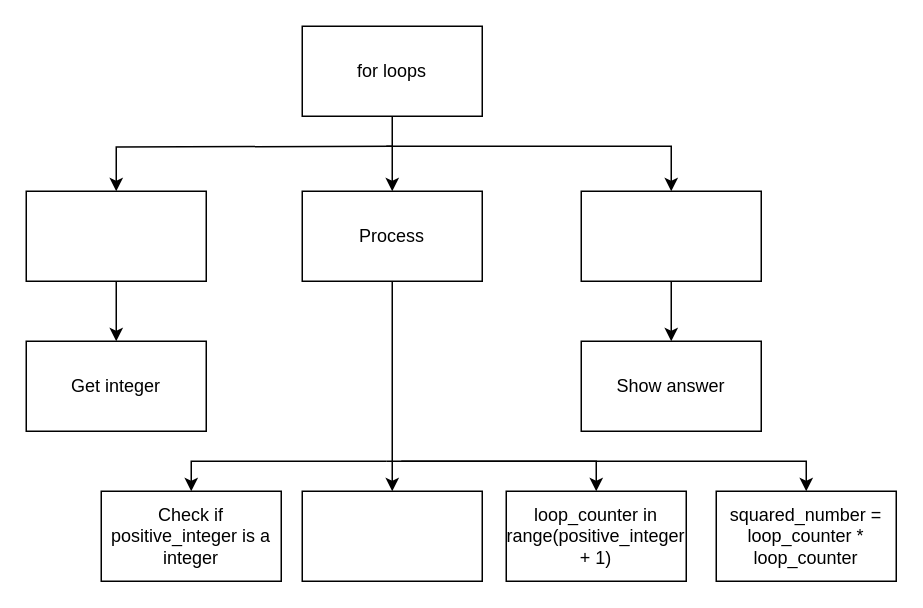
This 923x608 diagram has some shape labels left out. The shapes that lost their labels are listed below. From the top down, each one's box as (x1, y1, x2, y2) in pixels, then its label:
(25, 190, 206, 281): Input
(580, 190, 761, 281): Output
(301, 490, 482, 581): Check if positive_integer >= 0
